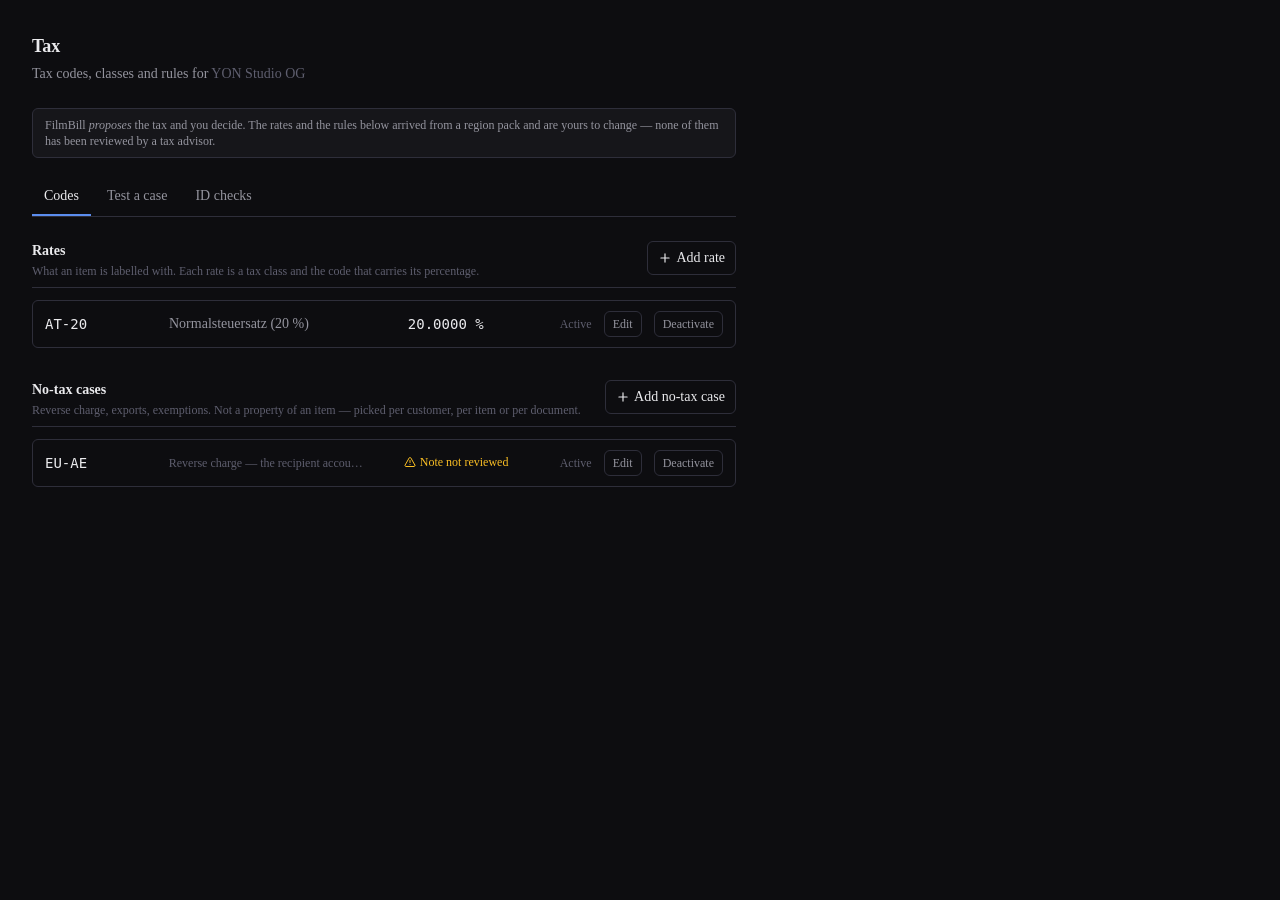
adding a rate › cannot be submitted without a name and a rate
Click the button with test id "tax-add-rate": (692, 258) [647,241,736,275]
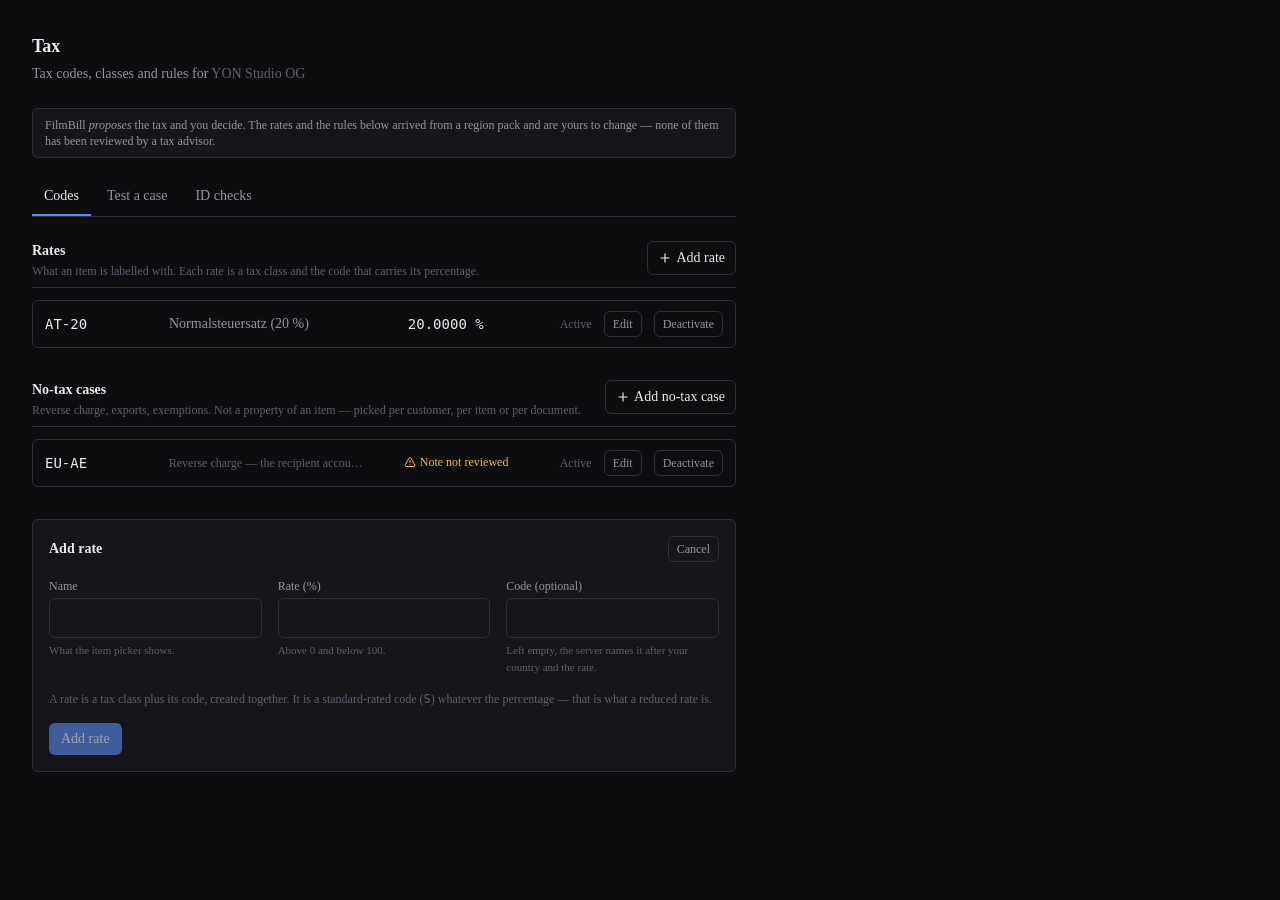
Expected: the button with test id "tax-add-rate-submit" is disabled, [49,723,122,755]
In the field labelled "Name What the item picker shows.": (155, 618) [49,598,262,638], type "Only a name"
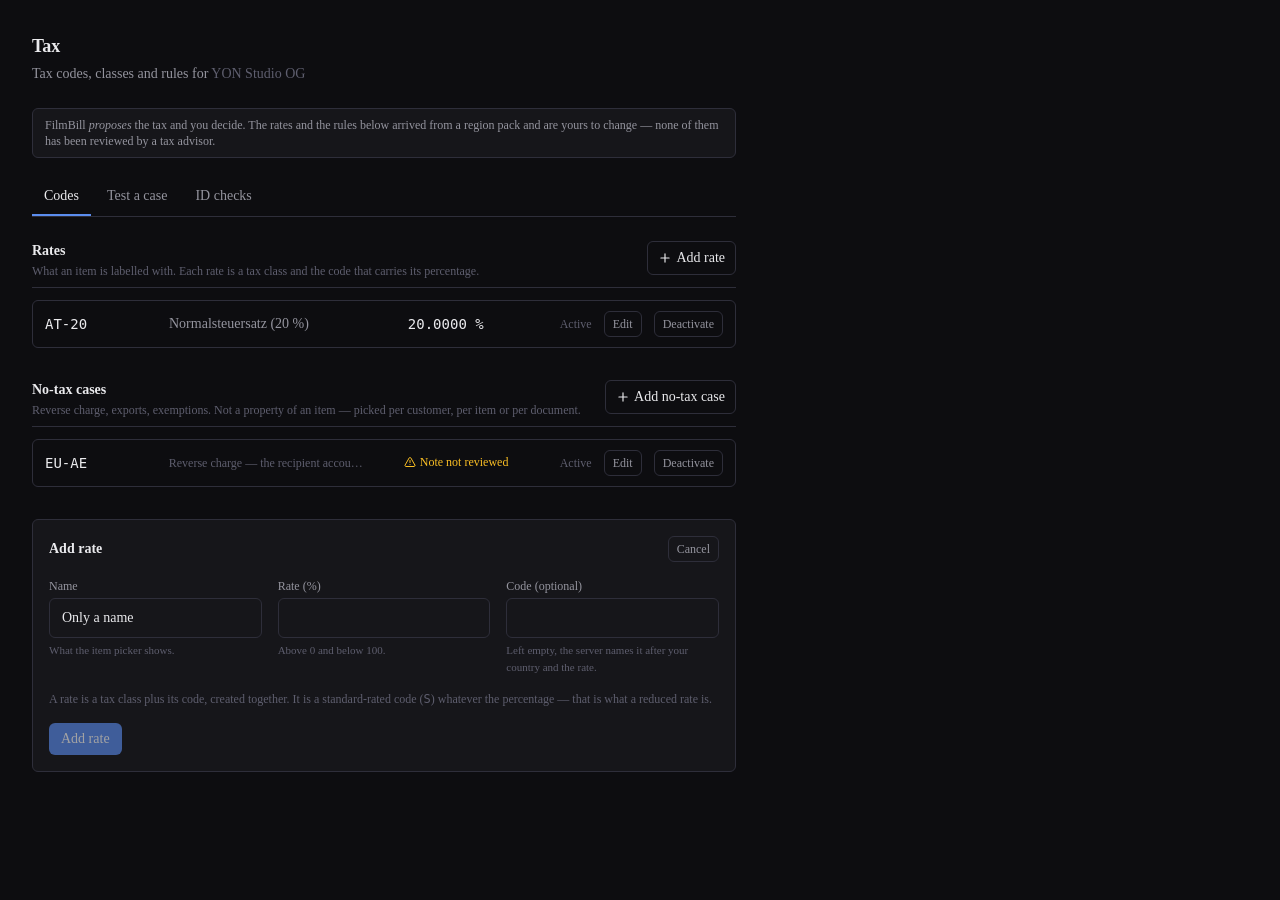
Expected: the button with test id "tax-add-rate-submit" is disabled, [49,723,122,755]
In the field labelled "Rate (%) Above 0 and below 100.": (384, 618) [278,598,490,638], type "4.5"
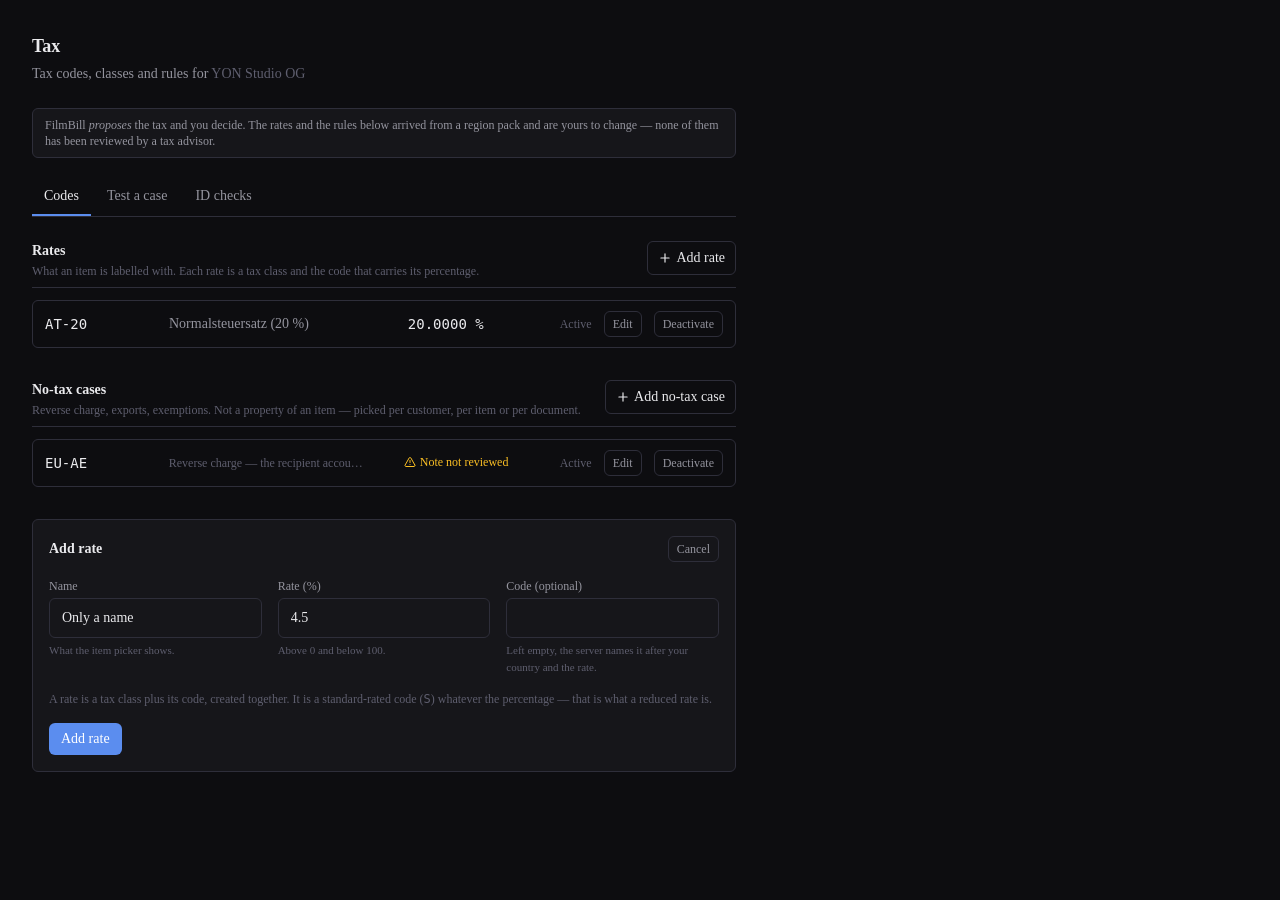
Expected: the button with test id "tax-add-rate-submit" is enabled, [49,723,122,755]
